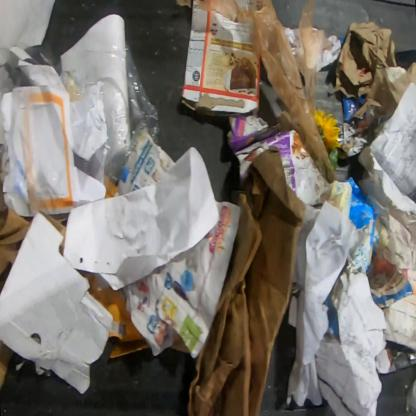cardboard: (186, 150, 307, 415), (0, 209, 116, 396), (181, 0, 262, 119), (226, 116, 331, 206), (334, 20, 416, 120), (322, 177, 388, 273), (0, 138, 34, 297), (379, 269, 416, 353), (235, 0, 258, 10)
soft_plastic: (197, 0, 338, 185), (53, 41, 160, 190), (0, 39, 53, 105)
